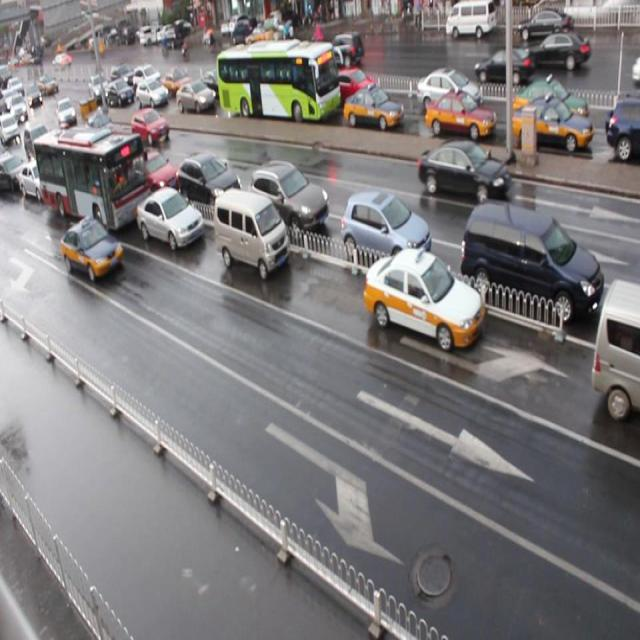car: (363, 245, 482, 351), (341, 190, 431, 274), (416, 138, 510, 205), (248, 160, 329, 233), (512, 97, 592, 154), (136, 185, 205, 251), (177, 150, 243, 210), (59, 219, 124, 279), (514, 79, 590, 127), (423, 92, 494, 140), (414, 67, 481, 114), (344, 89, 403, 133), (603, 102, 640, 163), (134, 146, 180, 194), (329, 64, 376, 102), (20, 157, 57, 201), (85, 134, 124, 173), (131, 108, 170, 147), (177, 80, 214, 114), (24, 121, 52, 163), (1, 152, 28, 194), (34, 130, 63, 169), (137, 78, 170, 110), (162, 69, 194, 97), (202, 70, 228, 101), (88, 110, 114, 140), (133, 64, 161, 90), (106, 79, 134, 104)
truck: (463, 197, 604, 327), (591, 276, 640, 420), (213, 188, 290, 278)
van: (34, 125, 154, 234), (217, 44, 340, 124)
